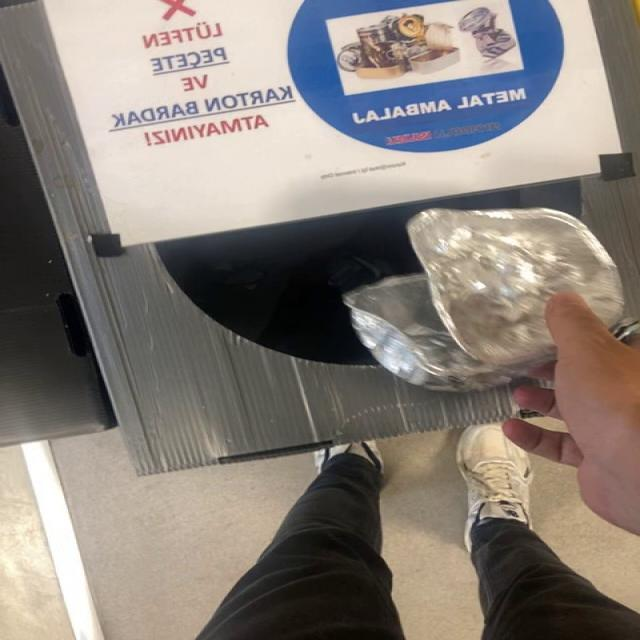metal: (343, 208, 624, 392)
